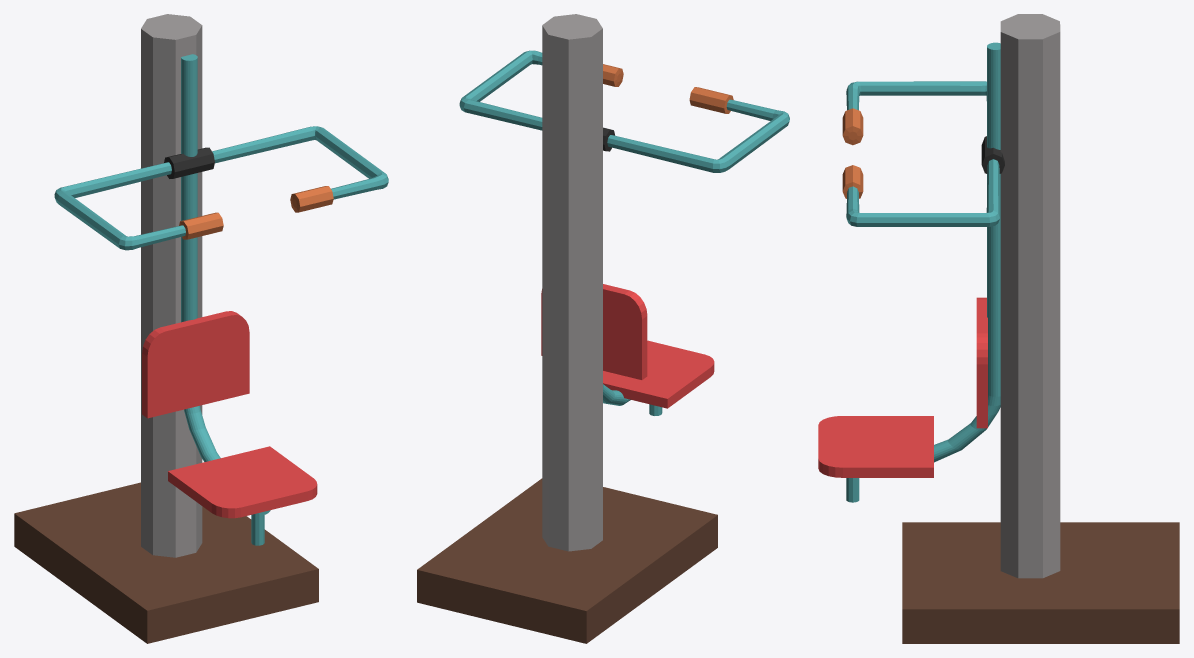
The model's file is D1_GYM3.fbx.
3 views of the same model, side by side, from view 1: azimuth 30°, elevation 25°; view 2: azimuth 150°, elevation 25°; view 3: azimuth 270°, elevation 25° (orthographic). The views are drawn at different scales.
Parts seen in each view (by area): view 1: D1_GIMNASIO3; view 2: D1_GIMNASIO3; view 3: D1_GIMNASIO3.
Boxes of the visible parts, bbox=[...] form: D1_GIMNASIO3: bbox=[14, 14, 388, 643]; D1_GIMNASIO3: bbox=[417, 14, 789, 643]; D1_GIMNASIO3: bbox=[818, 14, 1179, 643].
Size of the model in its own units: 159 by 309 by 176.
